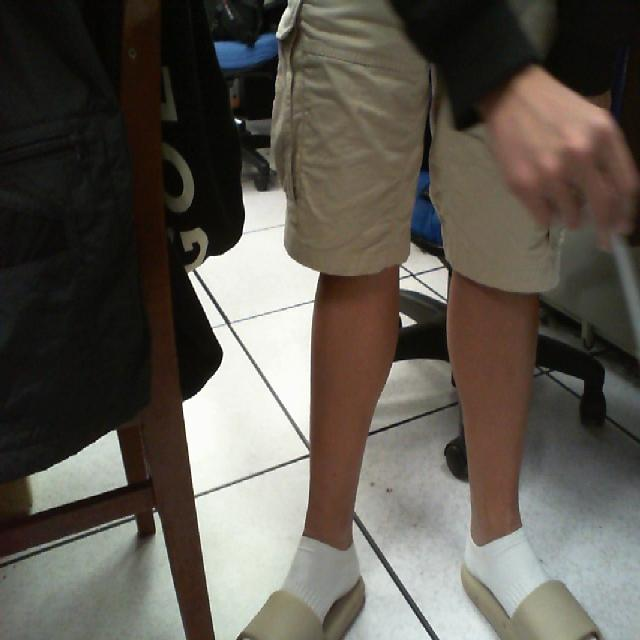Pen: (567, 199, 640, 356)
